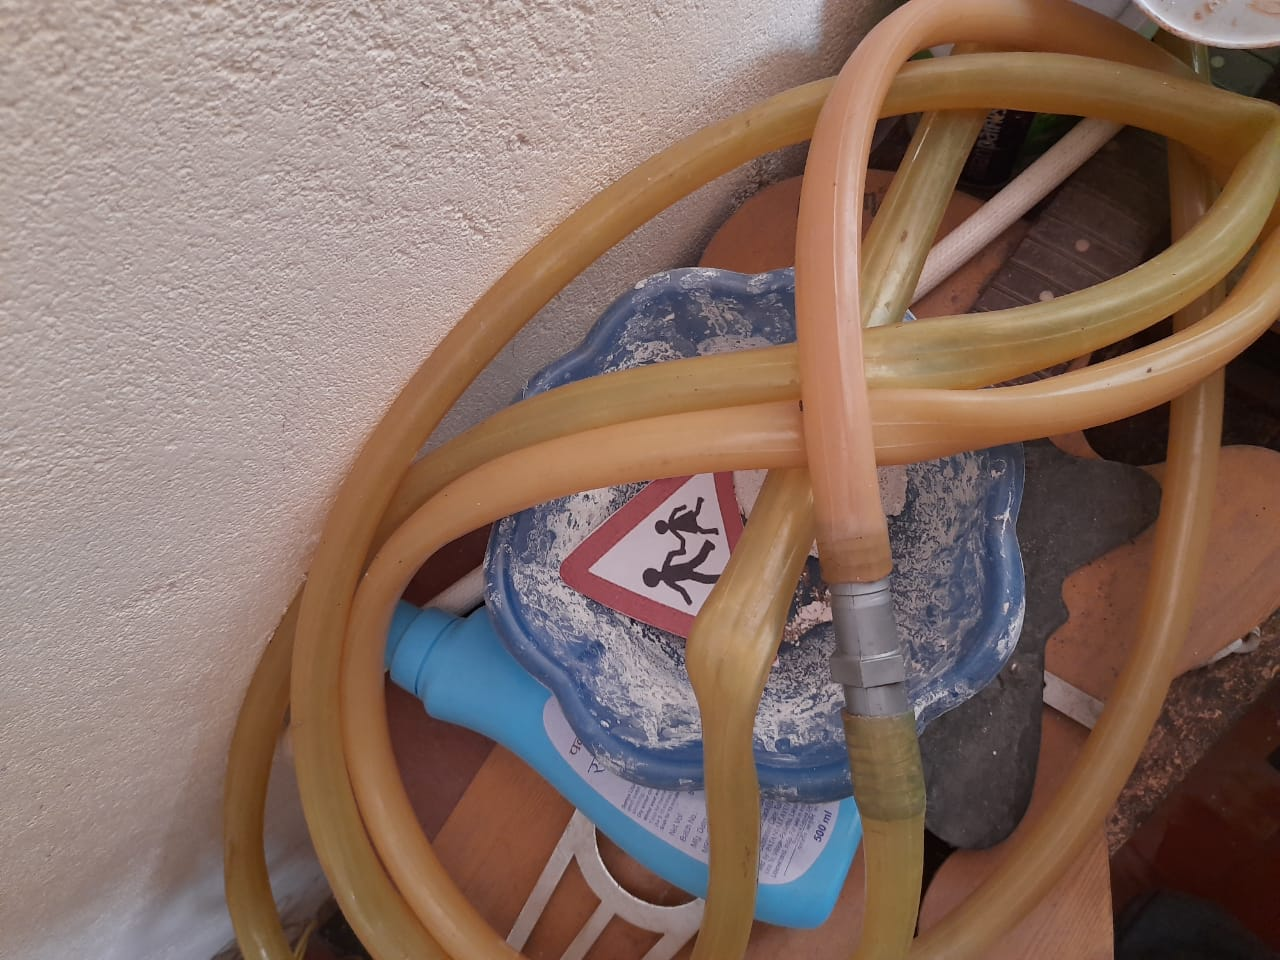SCHOOL ZONE: (558, 410, 789, 661)
